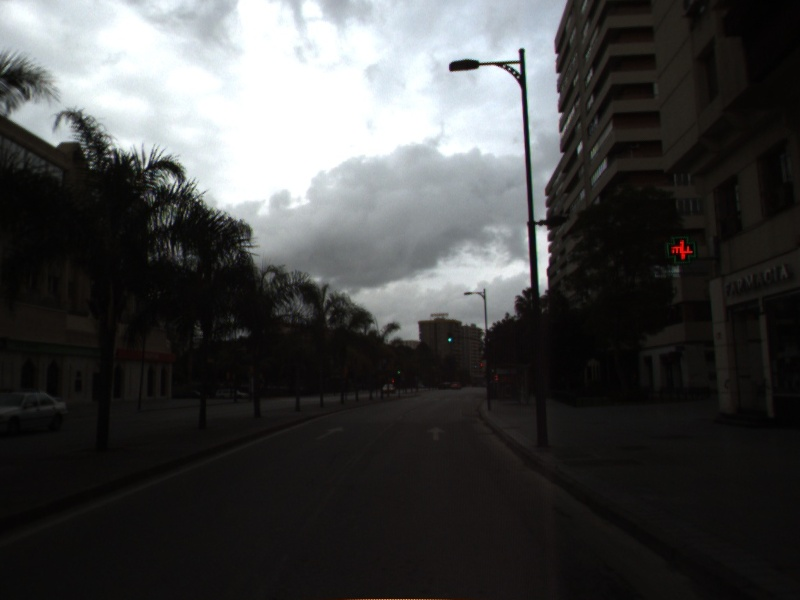STRAIGHT: (313, 424, 345, 442), (425, 424, 448, 443)
